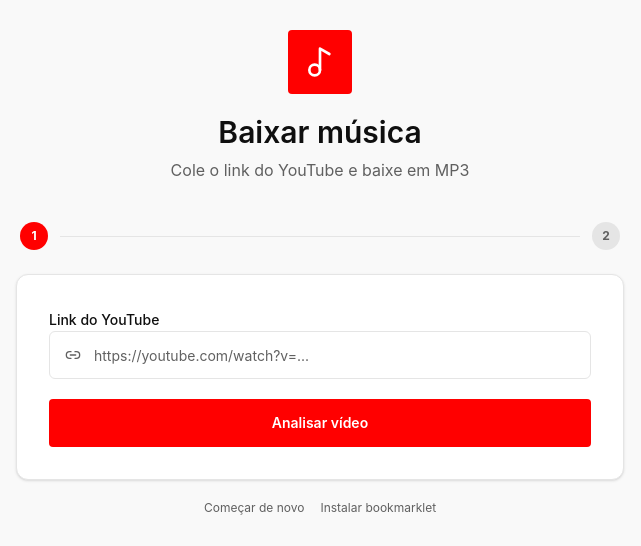
Test: Page – URL validation › shows error for a non-YouTube URL
Type "https://www.google.com" into the field with placeholder "https://youtube.com/watch?v=..." at coordinates (320, 355), box [49,331,591,379]
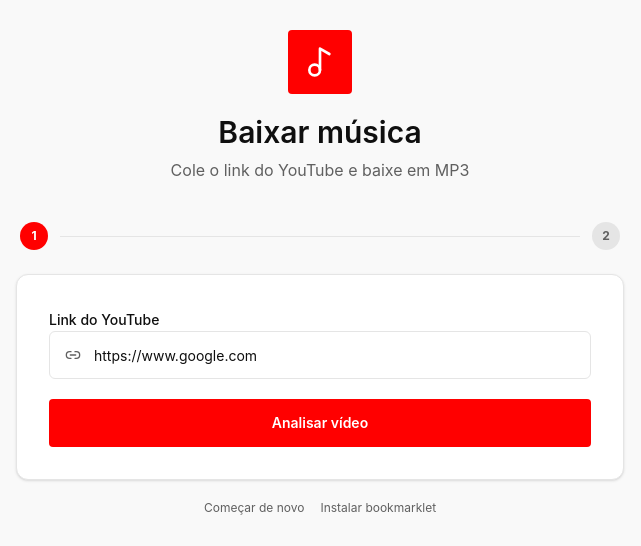
Click the button "Analisar vídeo" at coordinates (320, 423), box [49,399,591,447]
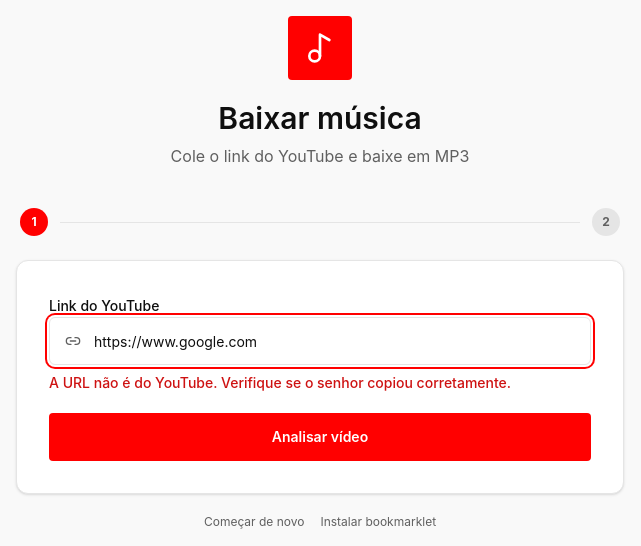
Result: the text "A URL não é do YouTube. Verifique se o senhor copiou corretamente." is shown at [49,373,591,393]
